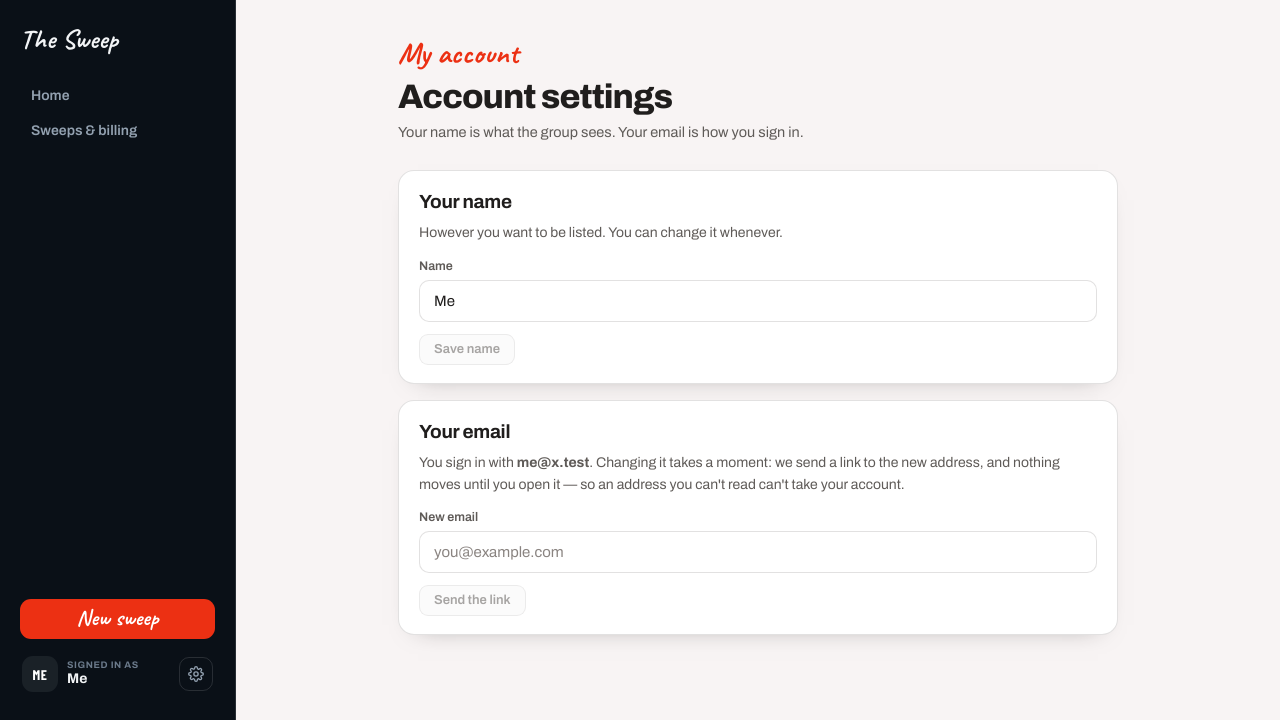
Test: changing the email sends a link and says so, without changing anything
Type "new@x.test" into the field labelled "New email" at (758,552), box [419, 531, 1097, 573]
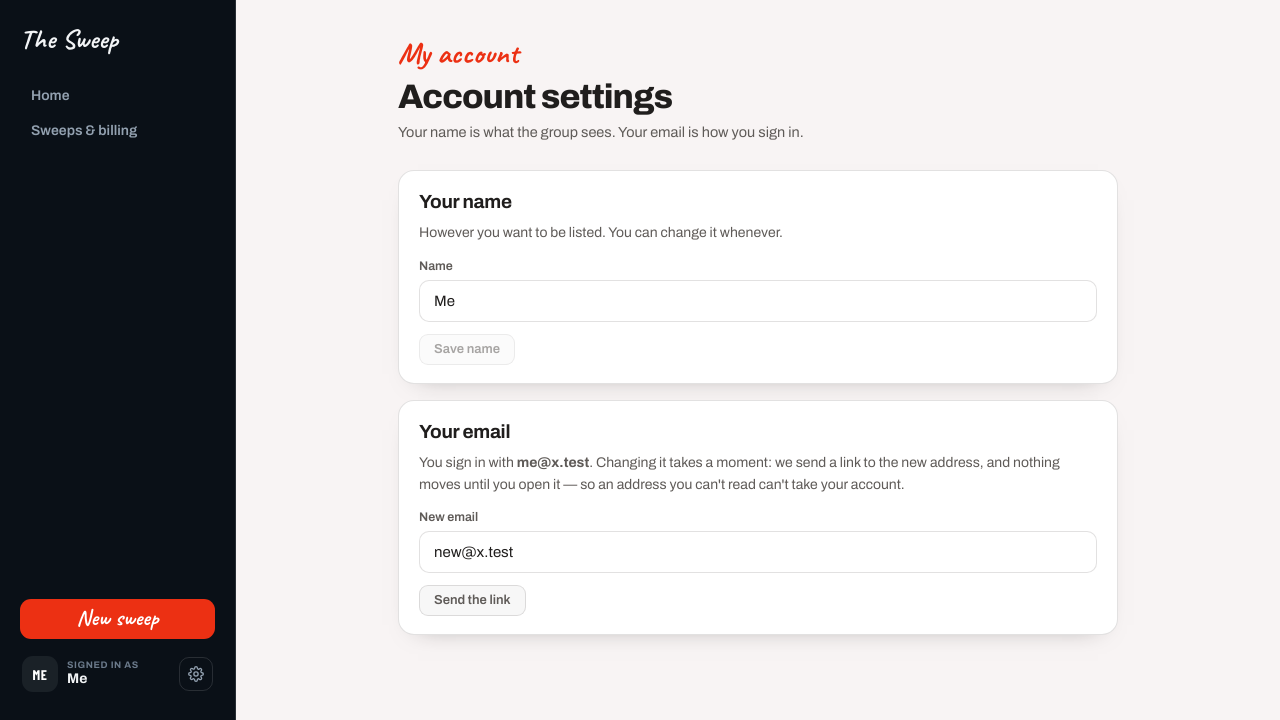
Click the button "Send the link" at (472,601), box [419, 585, 526, 616]
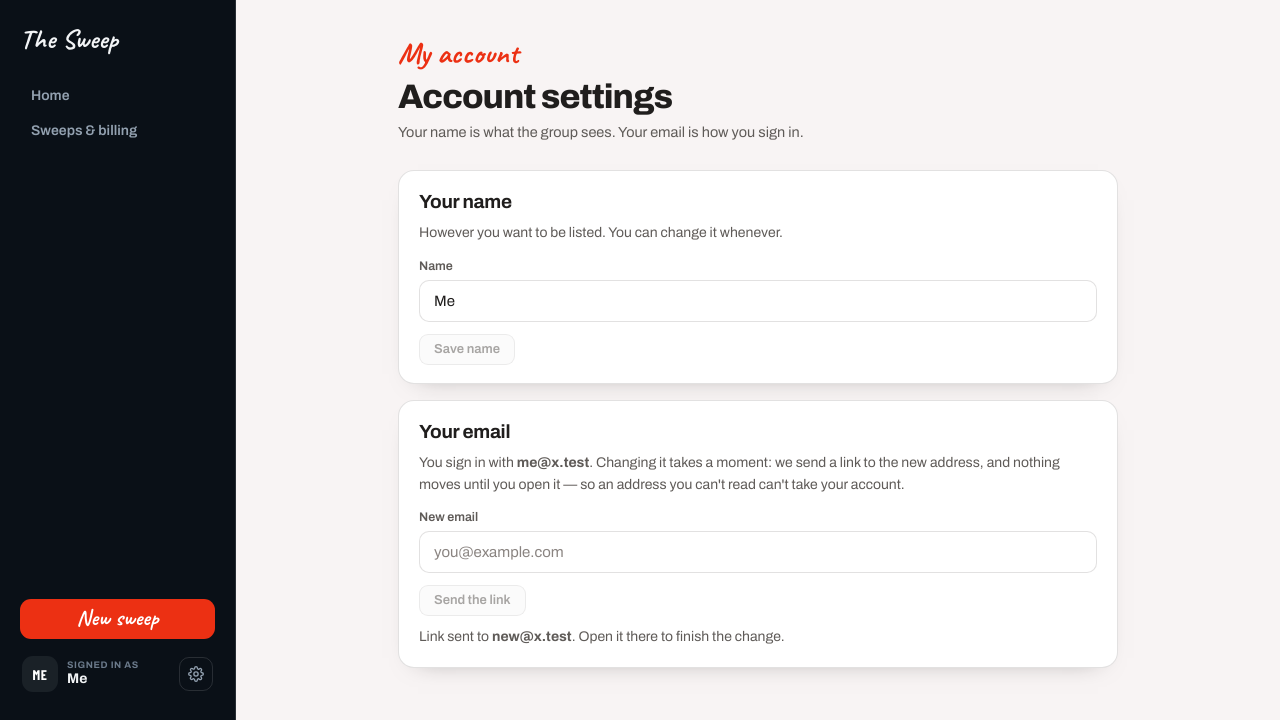
Check: the text "me@x.test" is shown, box [517, 455, 589, 470]
Check: the text "Link sent to new@x.test. Open it there to finish the change." is shown, box [419, 629, 785, 644]
